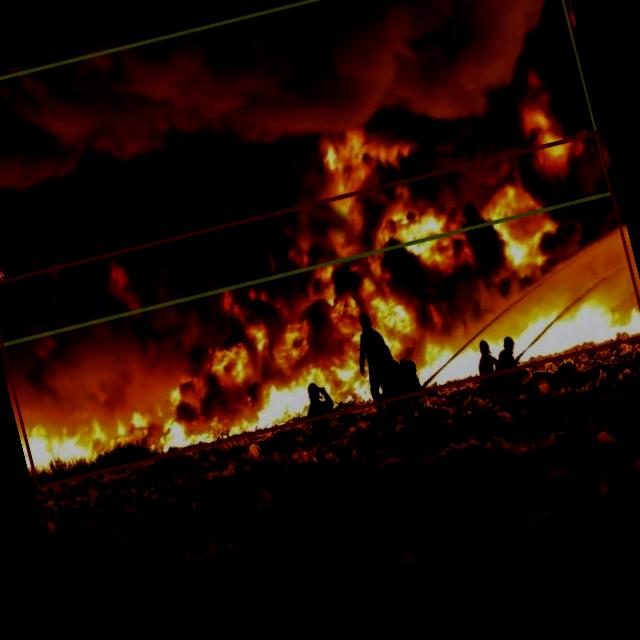fire: (0, 130, 640, 489)
smoke: (0, 0, 611, 346)
